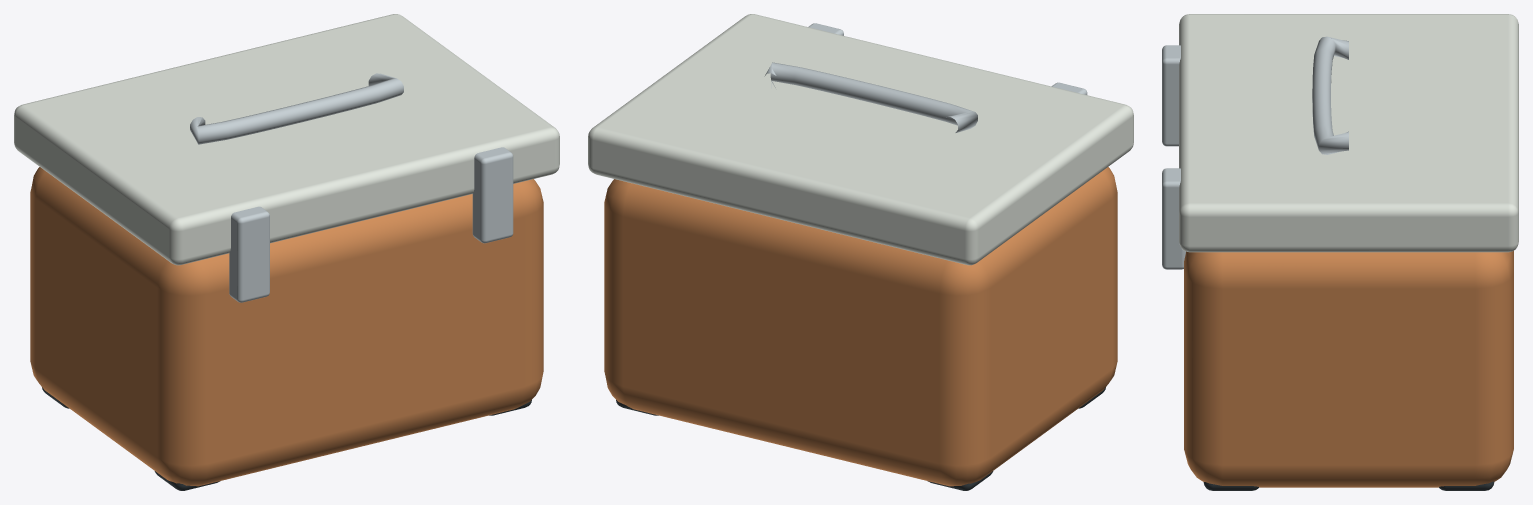
The model's file is abandoned-weather-station-and-storm-shelter-insulated--f9494a0c__31037.glb.
3 renders of one model, left to right at view 1: azimuth 30°, elevation 25°; view 2: azimuth 150°, elevation 25°; view 3: azimuth 270°, elevation 25°, orthographic. The views are drawn at different scales.
Parts seen in each view (by area): view 1: insulated-sample-case; view 2: insulated-sample-case; view 3: insulated-sample-case.
Boxes of the visible parts, left/top/right/bottom form: insulated-sample-case: left=14, top=14, right=559, bottom=490; insulated-sample-case: left=588, top=14, right=1133, bottom=490; insulated-sample-case: left=1162, top=14, right=1518, bottom=490.
Size of the model in its own units: 0.48 by 0.36 by 0.3675.
